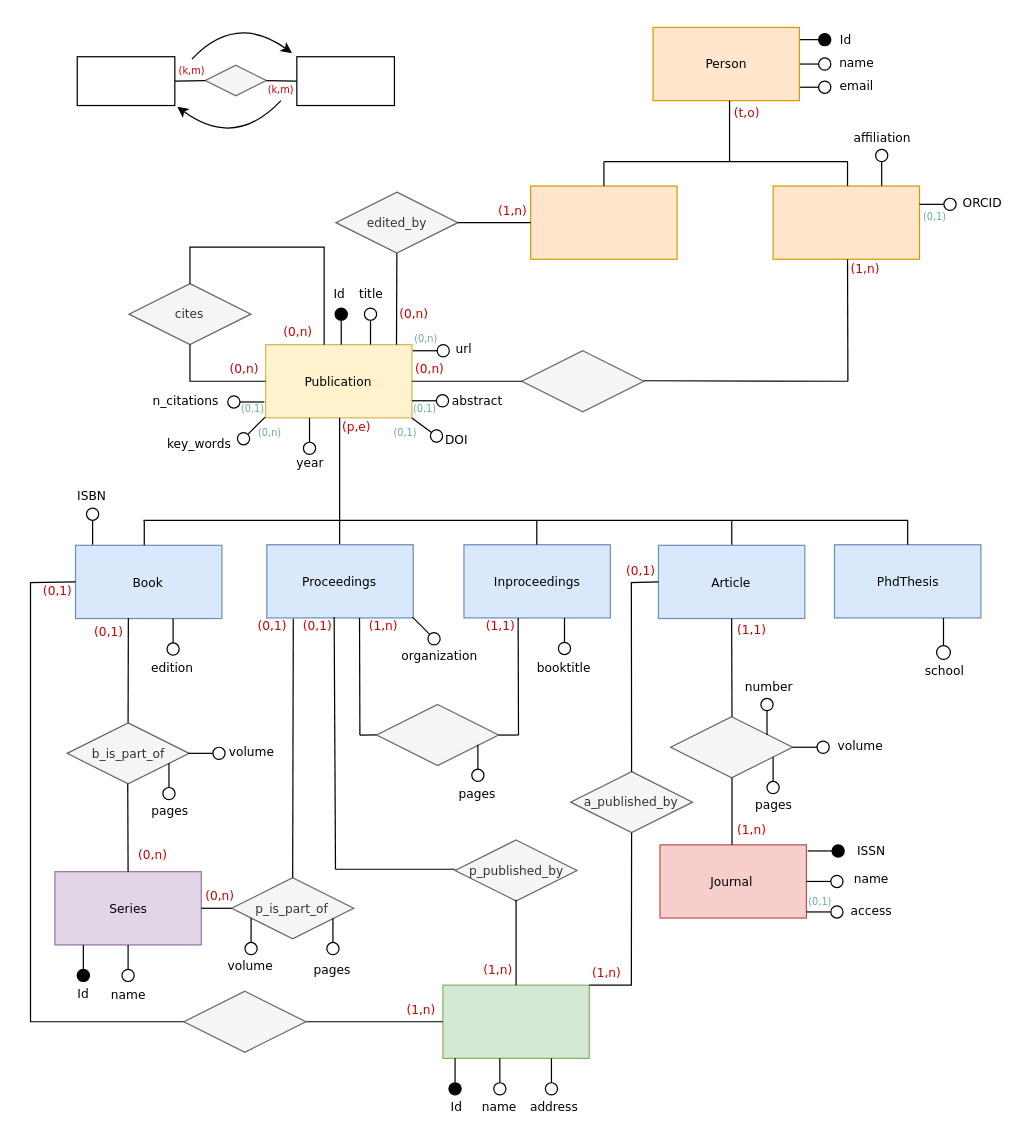
The diagram is 1032 pixels wide and 1146 high, and some of its shapes have lost their labels. The shapes that lost their labels are listed below. From the top down, each one's centre as x and y in pixels, then its label:
(x=603, y=222): Editor
(x=846, y=222): Author
(x=582, y=381): authored_by
(x=437, y=734): belongs_to
(x=731, y=747): published_in
(x=244, y=1021): b_published_by
(x=515, y=1021): Publisher
